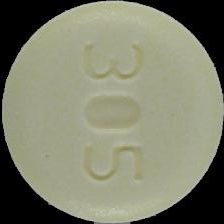68462-305: (0, 0, 224, 224)
